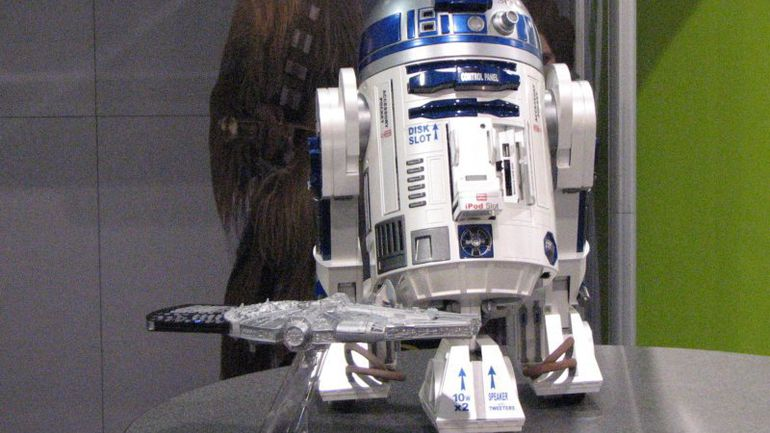r2d2: (318, 1, 601, 428)
